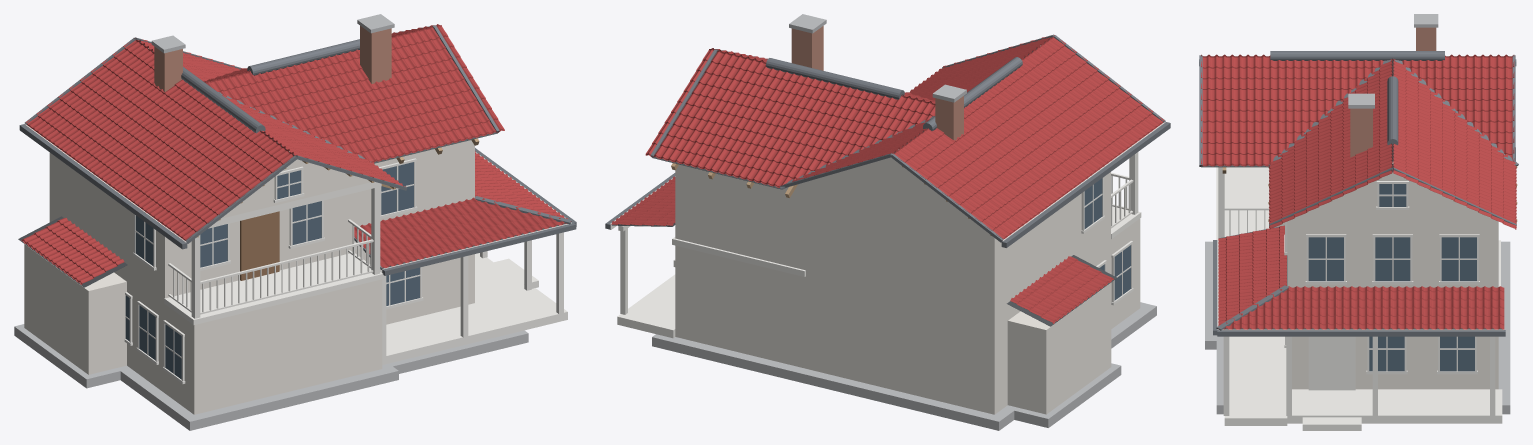
The model's file is Hermosa_Tile_LShape_Balcony_House.glb.
3 renders of one model, left to right at view 1: azimuth 30°, elevation 25°; view 2: azimuth 150°, elevation 25°; view 3: azimuth 270°, elevation 25°, orthographic. The views are drawn at different scales.
Parts seen in each view (by area): view 1: WingA_Walls_GF, WingA_Walls_2F, SideBay_Walls, WingB_Walls, Porch_Deck_FrontB, Balcony_Floor, Foundation_WingA, RoofSheet_20, RoofSheet_22, RoofSheet_23, RoofSheet_07, RoofSheet_21 (+49 smaller); view 2: WingA_Walls_2F, WingB_Walls, WingA_Walls_GF, SideBay_Walls, Foundation_WingA, RoofSheet_25, RoofSheet_26, RoofSheet_27, RoofSheet_24, RoofSheet_02, RoofSheet_07, RoofSheet_01 (+30 smaller); view 3: WingB_Walls, Porch_Deck_RightB, Porch_Deck_FrontB, RoofSheet_09, RoofSheet_10, RoofSheet_16, RoofSheet_11, Balcony_Floor, Gable_Wall_WingB_Right, Door_Frame, RoofSheet_22, RoofSheet_25 (+59 smaller).
Boxes of the visible parts, left/top/right/bottom form: WingA_Walls_GF: left=49, top=214, right=382, bottom=414; WingA_Walls_2F: left=49, top=152, right=353, bottom=298; SideBay_Walls: left=24, top=244, right=126, bottom=374; WingB_Walls: left=353, top=140, right=474, bottom=324; Porch_Deck_FrontB: left=382, top=288, right=567, bottom=364; Balcony_Floor: left=164, top=253, right=383, bottom=324; Foundation_WingA: left=120, top=363, right=398, bottom=430; RoofSheet_20: left=305, top=54, right=400, bottom=162; RoofSheet_22: left=391, top=33, right=469, bottom=147; RoofSheet_23: left=407, top=25, right=504, bottom=139; RoofSheet_07: left=146, top=130, right=274, bottom=226; RoofSheet_21: left=339, top=49, right=435, bottom=156; WingA_Walls_2F: left=805, top=172, right=1110, bottom=319; WingB_Walls: left=675, top=164, right=805, bottom=368; WingA_Walls_GF: left=805, top=218, right=1140, bottom=414; SideBay_Walls: left=1007, top=283, right=1111, bottom=414; Foundation_WingA: left=788, top=302, right=1156, bottom=430; RoofSheet_25: left=680, top=57, right=776, bottom=172; RoofSheet_26: left=715, top=70, right=811, bottom=180; RoofSheet_27: left=750, top=79, right=846, bottom=187; RoofSheet_24: left=645, top=48, right=743, bottom=163; RoofSheet_02: left=913, top=128, right=1043, bottom=225; RoofSheet_07: left=1018, top=50, right=1144, bottom=150; RoofSheet_01: left=894, top=139, right=1022, bottom=239; WingB_Walls: left=1287, top=212, right=1498, bottom=389; Porch_Deck_RightB: left=1229, top=389, right=1502, bottom=423; Porch_Deck_FrontB: left=1224, top=336, right=1287, bottom=425; RoofSheet_09: left=1201, top=55, right=1240, bottom=166; RoofSheet_10: left=1240, top=55, right=1279, bottom=166; RoofSheet_16: left=1475, top=55, right=1514, bottom=162; RoofSheet_11: left=1279, top=60, right=1318, bottom=155; Balcony_Floor: left=1216, top=167, right=1269, bottom=239; Gable_Wall_WingB_Right: left=1307, top=161, right=1477, bottom=212; Door_Frame: left=1308, top=336, right=1355, bottom=390; RoofSheet_22: left=1269, top=142, right=1392, bottom=212; RoofSheet_25: left=1393, top=142, right=1516, bottom=211.
Bounding box in the file's own units: 12.44 × 7.83 × 8.17.
